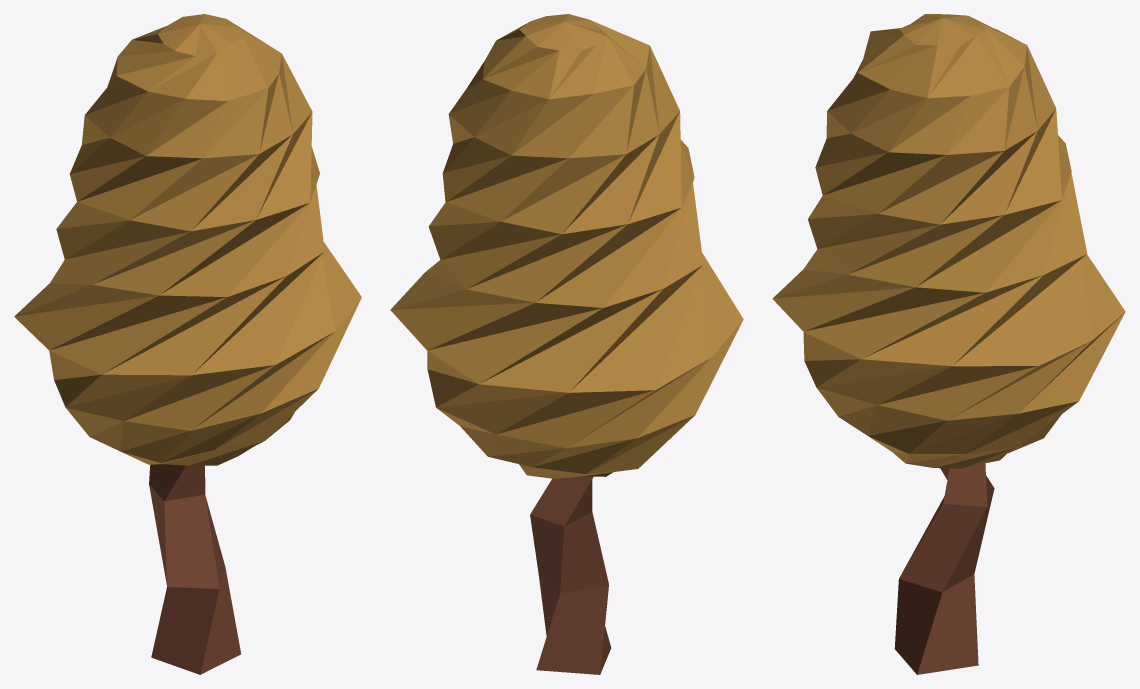
Rendered from Tree_14_autumn_vc.fbx.
3 views of the same model, side by side, from view 1: azimuth 30°, elevation 25°; view 2: azimuth 150°, elevation 25°; view 3: azimuth 270°, elevation 25° (orthographic). The views are drawn at different scales.
Parts seen in each view (by area): view 1: Tree_14_autumn_vc; view 2: Tree_14_autumn_vc; view 3: Tree_14_autumn_vc.
Part boxes in pixels (left/top/right/bottom): Tree_14_autumn_vc: left=14, top=14, right=361, bottom=674; Tree_14_autumn_vc: left=390, top=14, right=743, bottom=674; Tree_14_autumn_vc: left=772, top=14, right=1125, bottom=674.
Size of the model in its own units: 2.71 by 5.79 by 2.89.
